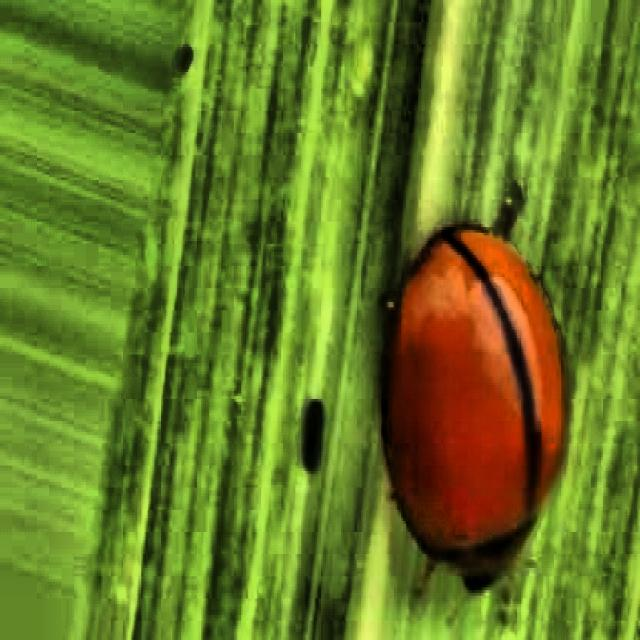Ladybug: (323, 163, 609, 640)
